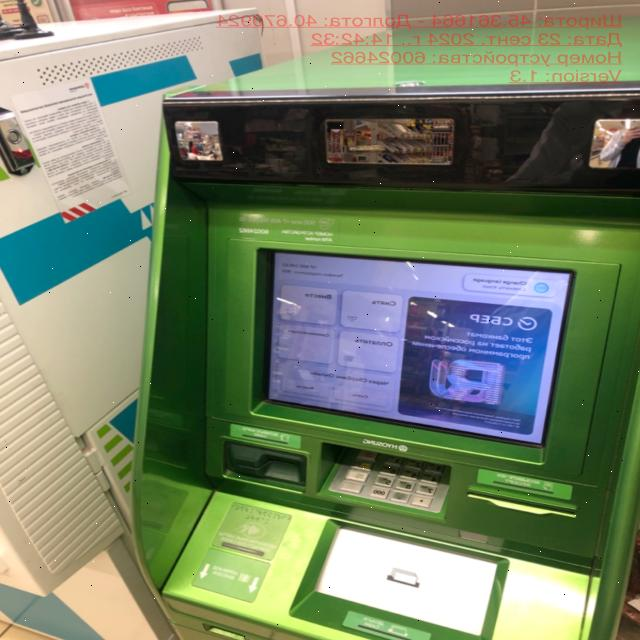bank: (133, 11, 640, 640)
